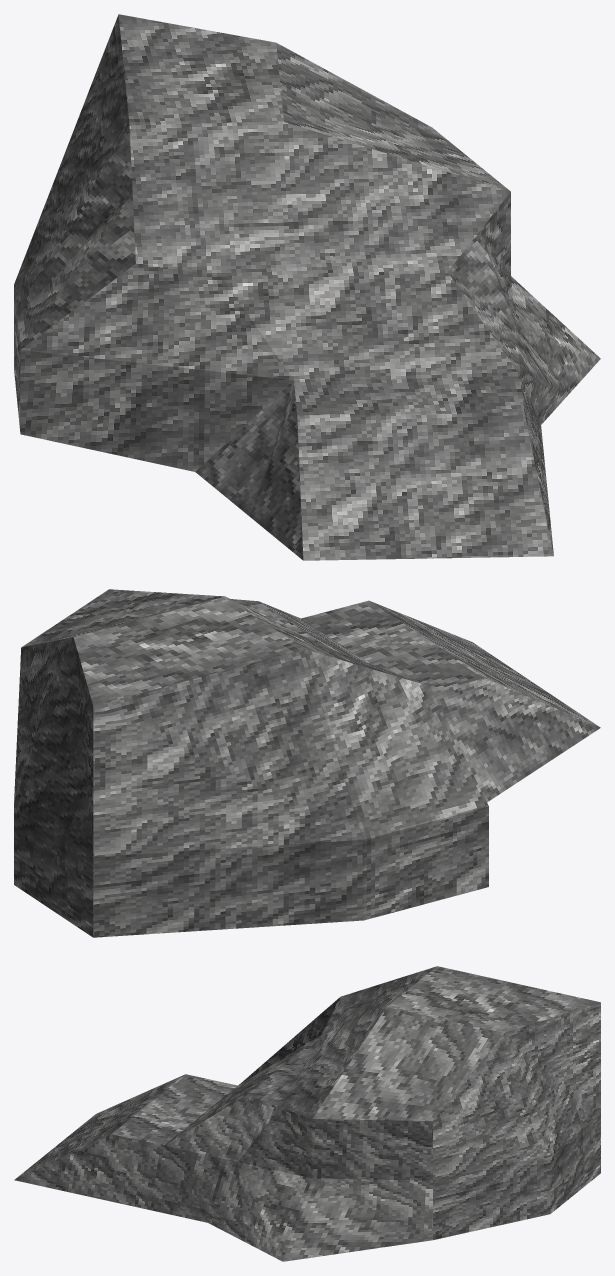
Rendered from rock-02.glb.
3 views of the same model, one above another, from view 1: azimuth 30°, elevation 25°; view 2: azimuth 150°, elevation 25°; view 3: azimuth 270°, elevation 25° (orthographic). The views are drawn at different scales.
Visible parts, largest first — view 1: Cube.010; view 2: Cube.010; view 3: Cube.010.
Boxes of the visible parts, x1,y1,x2,y2 form: Cube.010: [14, 14, 600, 560]; Cube.010: [14, 589, 600, 937]; Cube.010: [14, 966, 600, 1261].
Size of the model in its own units: 3.83 by 1.73 by 5.38.
Materials: 1 (1 with a texture image).
